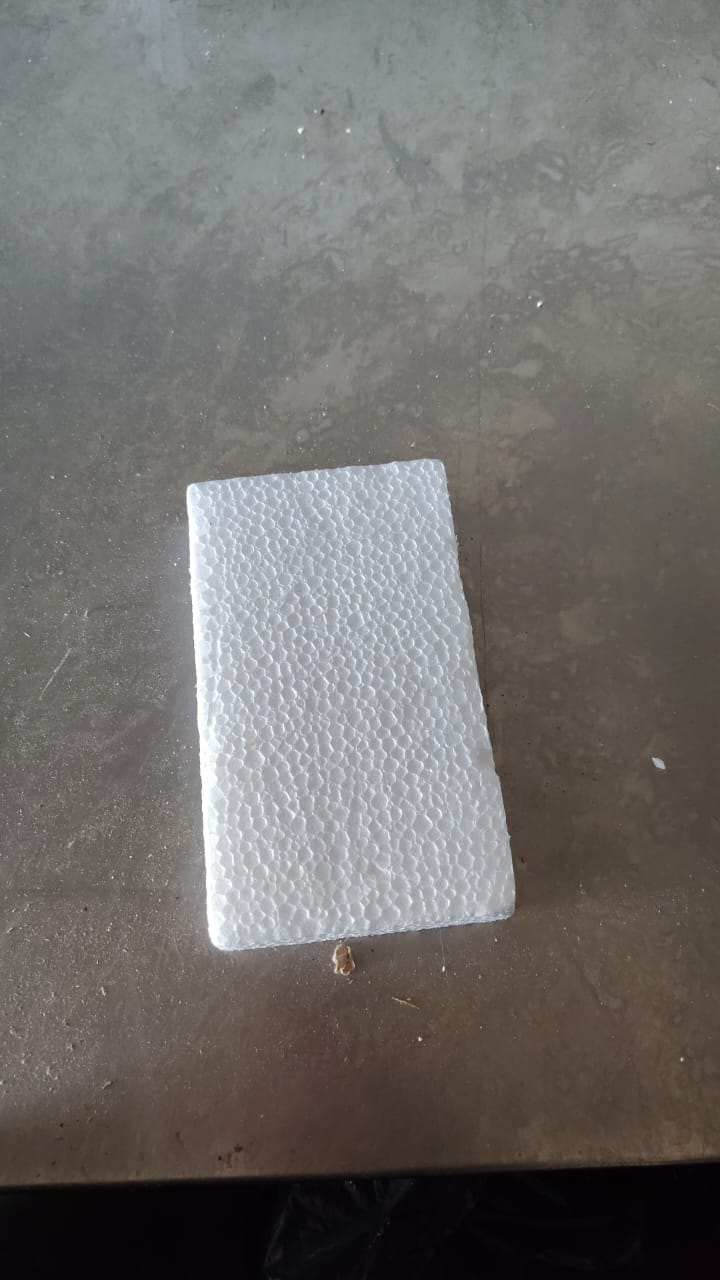Ordinario: (182, 457, 519, 953)
